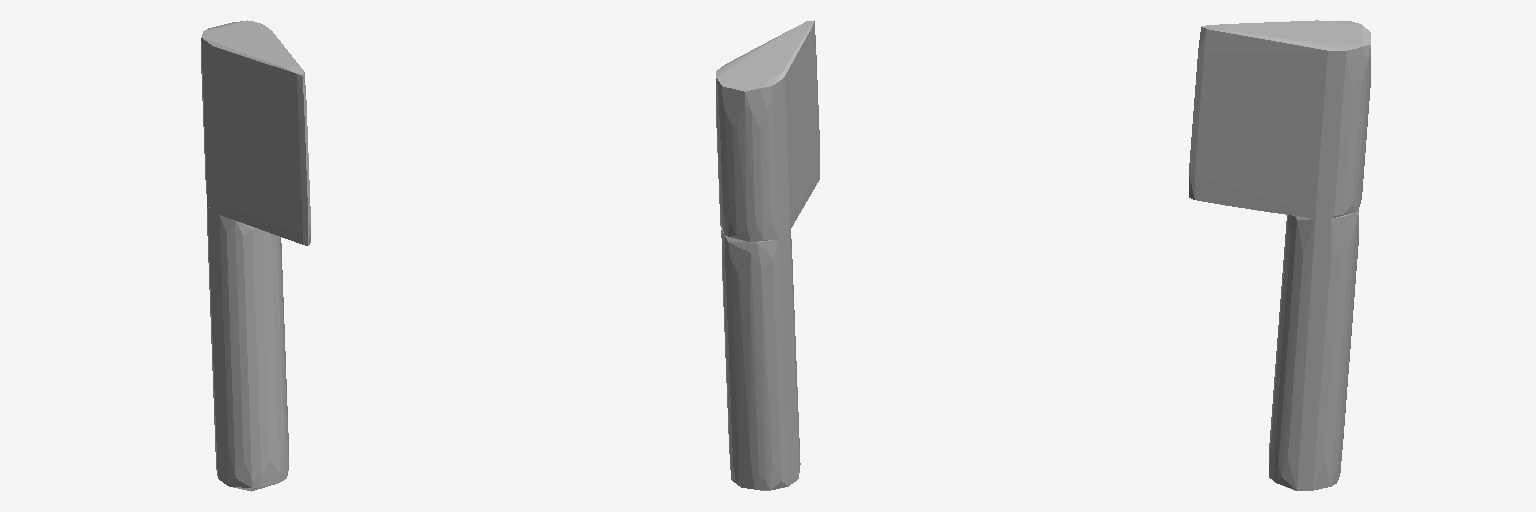
The robot description file, URDF, robot "root":
<robot name="root">
  <link name="link_9353cd6402478be9f4b757411b81f3df_convex_piece_0">
    <inertial>
      <origin rpy="0 0 0" xyz="0 0 0"/>
      <mass value="1.61E-05"/>
      <inertia ixx="1.57E-08" ixy="2.03E-12" ixz="-8.31E-12" iyy="1.53E-08" iyz="-3.56E-09" izz="1.05E-09"/>
    </inertial>
    <visual>
      <origin rpy="0 0 0" xyz="0 0 0"/>
      <geometry>
        <mesh filename="9353cd6402478be9f4b757411b81f3df_convex_piece_0.obj" scale="1.0000E+00"/>
      </geometry>
      <material name="">
        <color rgba="7.50E-01 7.50E-01 7.50E-01 1"/>
      </material>
    </visual>
    <collision>
      <origin rpy="0 0 0" xyz="0 0 0"/>
      <geometry>
        <mesh filename="9353cd6402478be9f4b757411b81f3df_convex_piece_0.obj" scale="1.0000E+00"/>
      </geometry>
    </collision>
  </link>
  <link name="link_9353cd6402478be9f4b757411b81f3df_convex_piece_1">
    <inertial>
      <origin rpy="0 0 0" xyz="0 0 0"/>
      <mass value="1.79E-05"/>
      <inertia ixx="3.02E-08" ixy="-1.82E-12" ixz="2.57E-11" iyy="2.90E-08" iyz="2.28E-09" izz="1.74E-09"/>
    </inertial>
    <visual>
      <origin rpy="0 0 0" xyz="0 0 0"/>
      <geometry>
        <mesh filename="9353cd6402478be9f4b757411b81f3df_convex_piece_1.obj" scale="1.0000E+00"/>
      </geometry>
      <material name="">
        <color rgba="7.50E-01 7.50E-01 7.50E-01 1"/>
      </material>
    </visual>
    <collision>
      <origin rpy="0 0 0" xyz="0 0 0"/>
      <geometry>
        <mesh filename="9353cd6402478be9f4b757411b81f3df_convex_piece_1.obj" scale="1.0000E+00"/>
      </geometry>
    </collision>
  </link>
  <joint name="link_9353cd6402478be9f4b757411b81f3df_convex_piece_1_joint" type="fixed">
    <origin rpy="0 0 0" xyz="0 0 0"/>
    <parent link="link_9353cd6402478be9f4b757411b81f3df_convex_piece_0"/>
    <child link="link_9353cd6402478be9f4b757411b81f3df_convex_piece_1"/>
  </joint>
</robot>

--- Facts derived from the render (not from the file) ---
3 views of the same robot in one strip: view 1: azimuth 30°, elevation 25°; view 2: azimuth 150°, elevation 25°; view 3: azimuth 270°, elevation 25° (orthographic).
Model root with 2 links and 1 joints (1 fixed), rooted at link_9353cd6402478be9f4b757411b81f3df_convex_piece_0, posed all joints at 0.
Visible links, largest first — view 1: link_9353cd6402478be9f4b757411b81f3df_convex_piece_1, link_9353cd6402478be9f4b757411b81f3df_convex_piece_0; view 2: link_9353cd6402478be9f4b757411b81f3df_convex_piece_1, link_9353cd6402478be9f4b757411b81f3df_convex_piece_0; view 3: link_9353cd6402478be9f4b757411b81f3df_convex_piece_1, link_9353cd6402478be9f4b757411b81f3df_convex_piece_0.
Boxes of the visible links, x1,y1,x2,y2 form: link_9353cd6402478be9f4b757411b81f3df_convex_piece_1: [201, 20, 310, 245]; link_9353cd6402478be9f4b757411b81f3df_convex_piece_0: [207, 206, 288, 491]; link_9353cd6402478be9f4b757411b81f3df_convex_piece_1: [716, 20, 819, 241]; link_9353cd6402478be9f4b757411b81f3df_convex_piece_0: [721, 229, 800, 490]; link_9353cd6402478be9f4b757411b81f3df_convex_piece_1: [1189, 20, 1370, 218]; link_9353cd6402478be9f4b757411b81f3df_convex_piece_0: [1269, 210, 1358, 490].
Size in the robot's own frame: 0.0177 by 0.0455 by 0.1272 metres.
Meshes: 2 distinct files referenced, 2 mesh visuals loaded (2 OBJ).